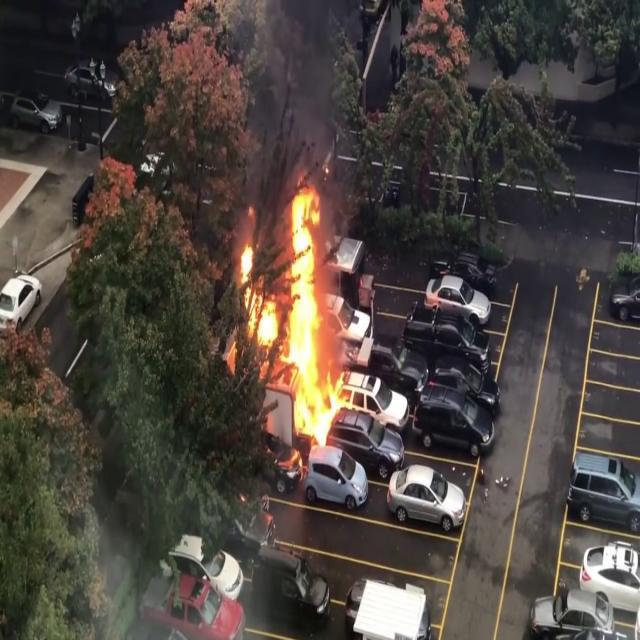Fire: (230, 179, 350, 457)
Smoke: (270, 0, 346, 176)
